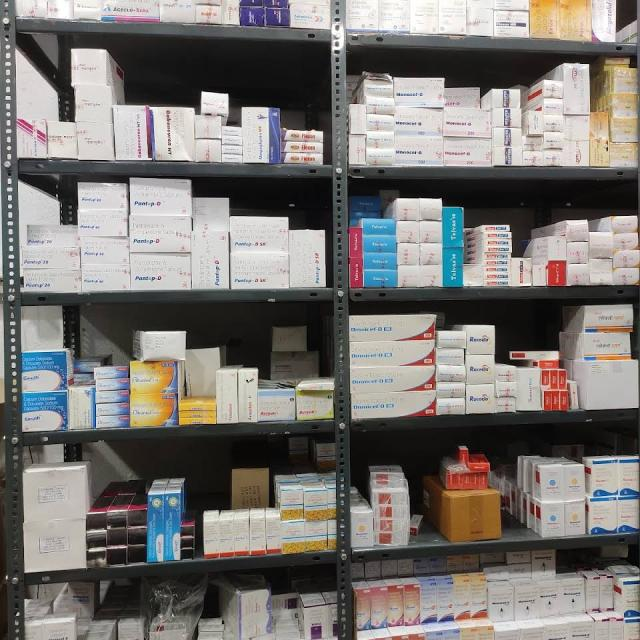pantop-d: (129, 217, 191, 254), (131, 177, 189, 215), (130, 256, 192, 289)
